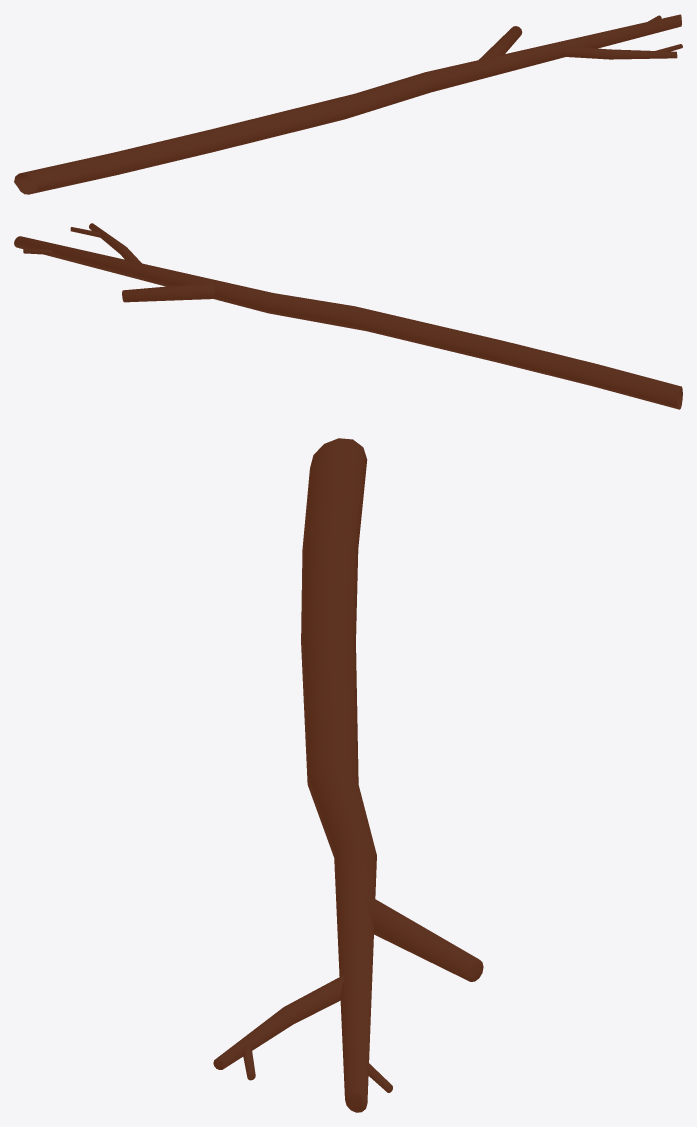
File: Stick For DOG.glb
3 renders of one model, top to bottom at view 1: azimuth 30°, elevation 25°; view 2: azimuth 150°, elevation 25°; view 3: azimuth 270°, elevation 25°, orthographic. The views are drawn at different scales.
Parts seen in each view (by area): view 1: Cylinder; view 2: Cylinder; view 3: Cylinder.
Boxes of the visible parts, x1,y1,x2,y2 form: Cylinder: (14, 14, 682, 194); Cylinder: (14, 223, 682, 409); Cylinder: (213, 438, 483, 1112).
Size of the model in its own units: 1.82 by 0.0533 by 0.3211.
